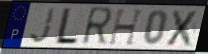0: (142, 9, 170, 48)
H: (107, 8, 146, 48)
J: (28, 7, 58, 45)
L: (52, 6, 81, 46)
R: (79, 5, 115, 47)
X: (163, 9, 202, 48)
